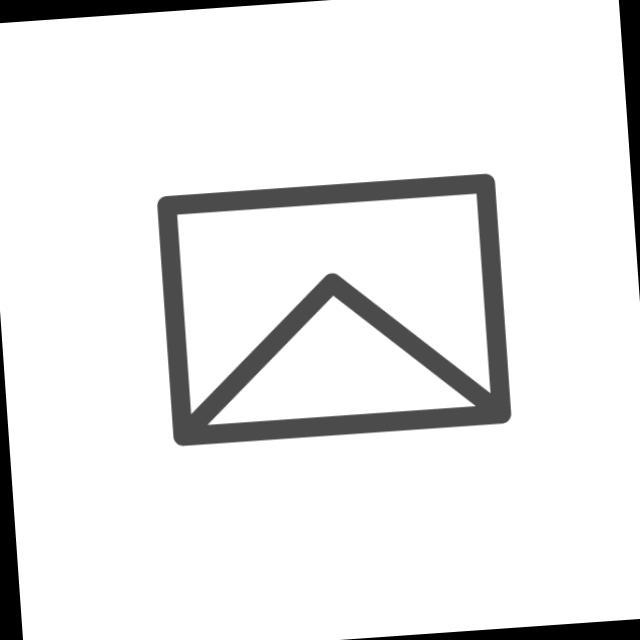letter: (153, 167, 519, 451)
